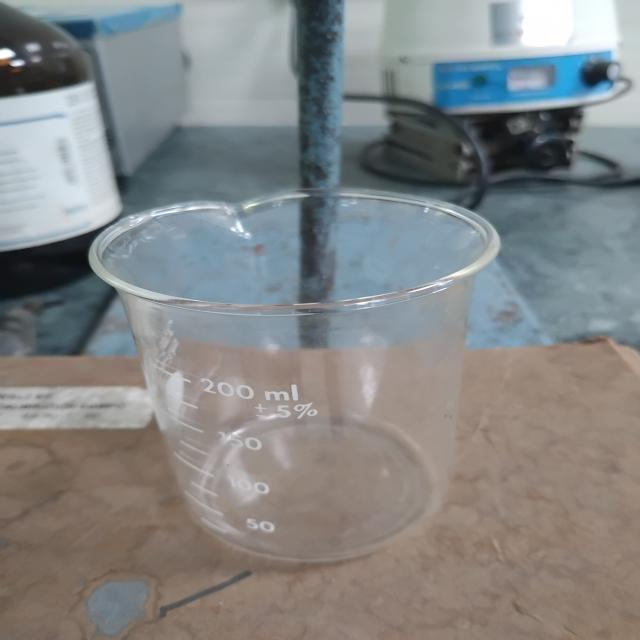Beaker: (67, 166, 534, 587)
